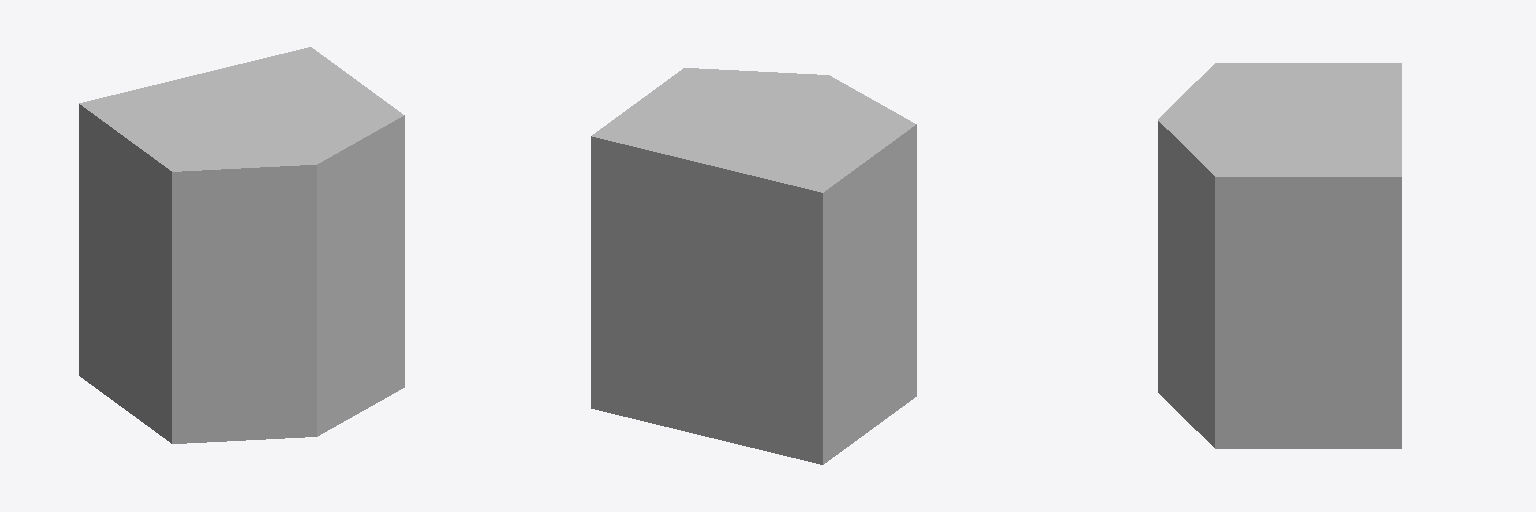
File: oficinas.obj
3 views of the same model, side by side, from view 1: azimuth 30°, elevation 25°; view 2: azimuth 150°, elevation 25°; view 3: azimuth 270°, elevation 25° (orthographic).
Visible parts, largest first — view 1: obj_0; view 2: obj_0; view 3: obj_0.
Boxes of the visible parts, <box> form: obj_0: <box>79,47,404,443</box>; obj_0: <box>591,68,916,464</box>; obj_0: <box>1158,63,1401,448</box>.
Size of the model in its own units: 27.2 by 30.48 by 24.8.